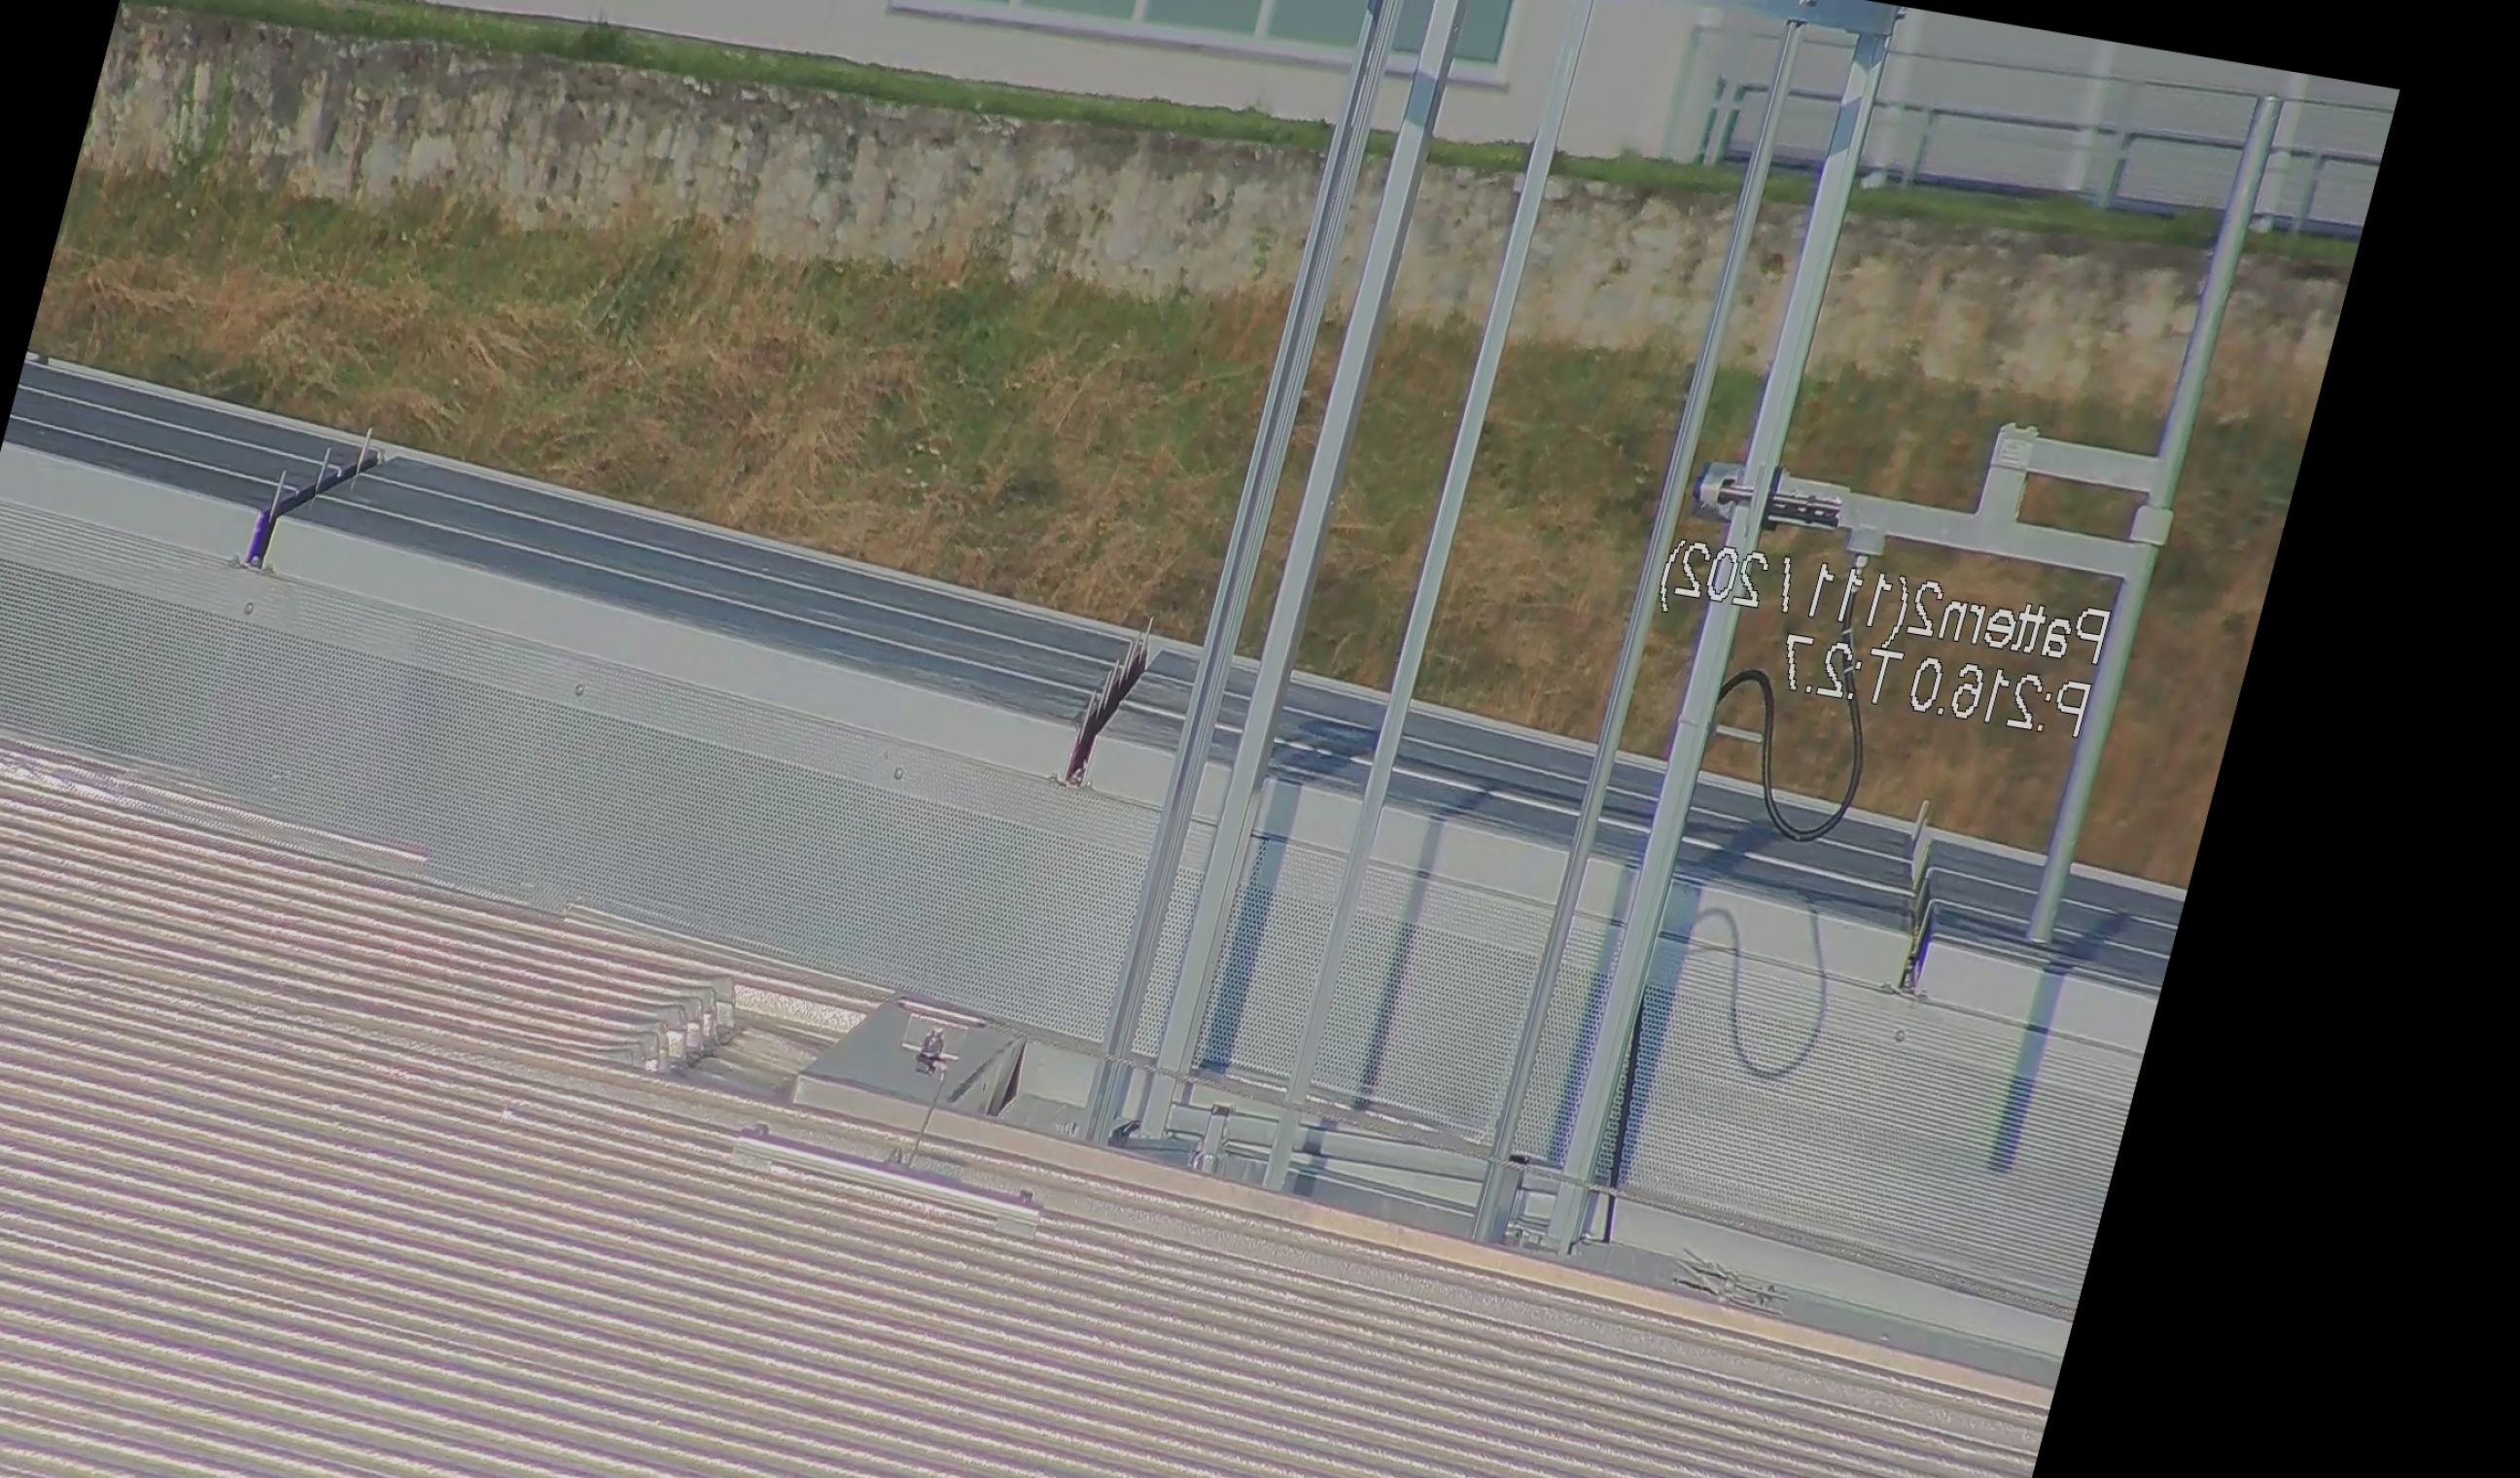Other: (1046, 600, 1182, 801)
